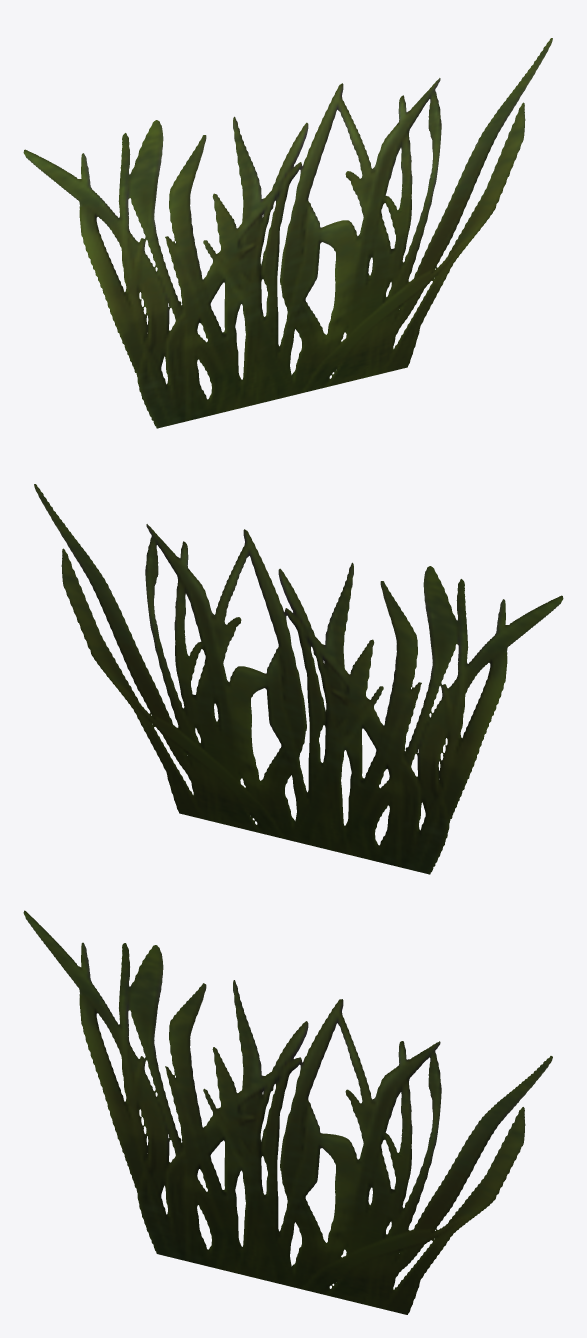
Rendered from fanasty_mod_grass03.fbx.
3 views of the same model, one above another, from view 1: azimuth 30°, elevation 25°; view 2: azimuth 150°, elevation 25°; view 3: azimuth 330°, elevation 25° (orthographic).
Parts seen in each view (by area): view 1: grass_03; view 2: grass_03; view 3: grass_03.
Part boxes in pixels (x1=…): grass_03: x1=23, y1=38, x2=552, y2=428; grass_03: x1=34, y1=484, x2=563, y2=874; grass_03: x1=23, y1=910, x2=552, y2=1314.
Size of the model in its own units: 2 by 1.07 by 0.
